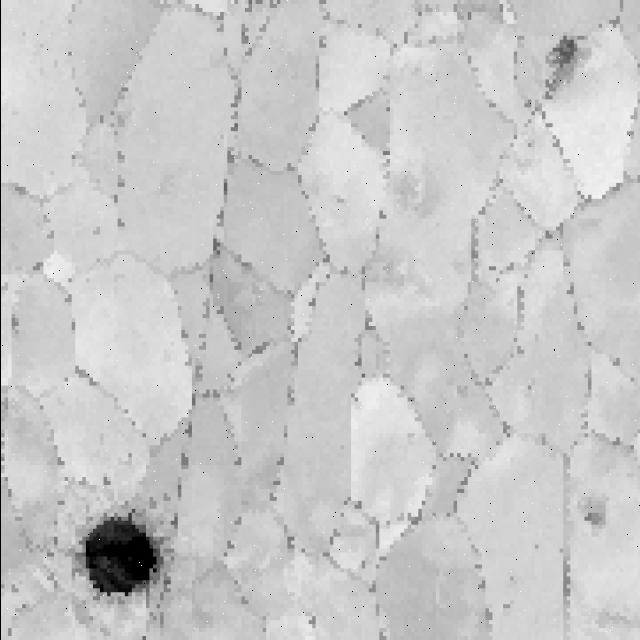good_void: (68, 491, 168, 605), (540, 30, 597, 108), (567, 485, 626, 550)
